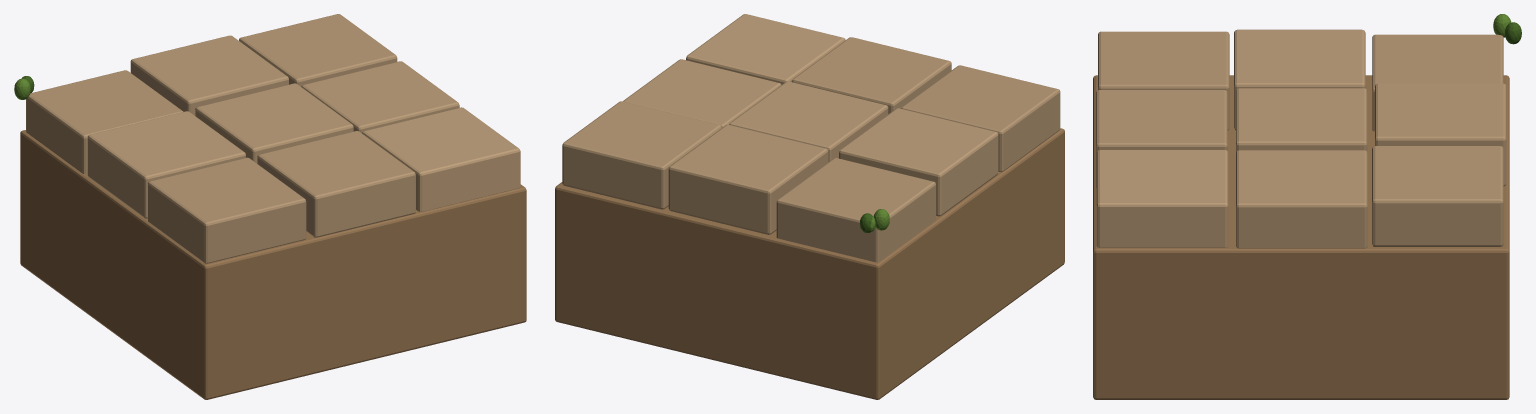
The model's file is floor.glb.
The picture shows the model from 3 angles, left to right: view 1: azimuth 30°, elevation 25°; view 2: azimuth 150°, elevation 25°; view 3: azimuth 270°, elevation 25°; orthographic projection. The views are drawn at different scales.
Visible parts, largest first — view 1: Floor; view 2: Floor; view 3: Floor.
Boxes of the visible parts, x1=… form: Floor: x1=14, y1=14, x2=526, y2=399; Floor: x1=555, y1=14, x2=1064, y2=399; Floor: x1=1093, y1=14, x2=1521, y2=399.
Bounding box in the file's own units: 0.9703 × 0.5315 × 0.9781.
